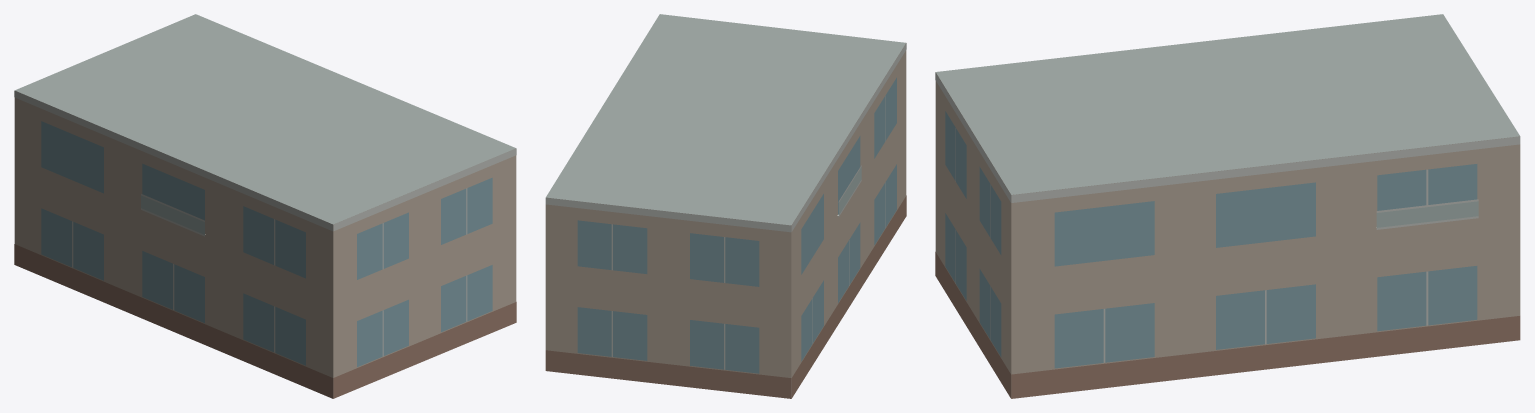
The model's file is survey-upis-32597551.glb.
3 renders of one model, left to right at view 1: azimuth 30°, elevation 25°; view 2: azimuth 150°, elevation 25°; view 3: azimuth 270°, elevation 25°, orthographic. The views are drawn at different scales.
Visible parts, largest first — view 1: survey-upis-32597551.tmp; view 2: survey-upis-32597551.tmp; view 3: survey-upis-32597551.tmp.
Boxes of the visible parts, left/top/right/bottom form: survey-upis-32597551.tmp: left=14, top=14, right=516, bottom=398; survey-upis-32597551.tmp: left=545, top=14, right=906, bottom=398; survey-upis-32597551.tmp: left=935, top=14, right=1520, bottom=398.
Size of the model in its own units: 11.62 by 6.1 by 15.87.
